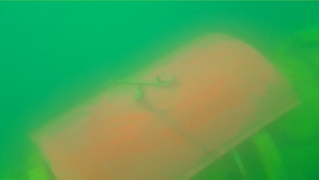leak: (28, 32, 301, 180)
pipe: (192, 25, 318, 180), (1, 147, 57, 180)
